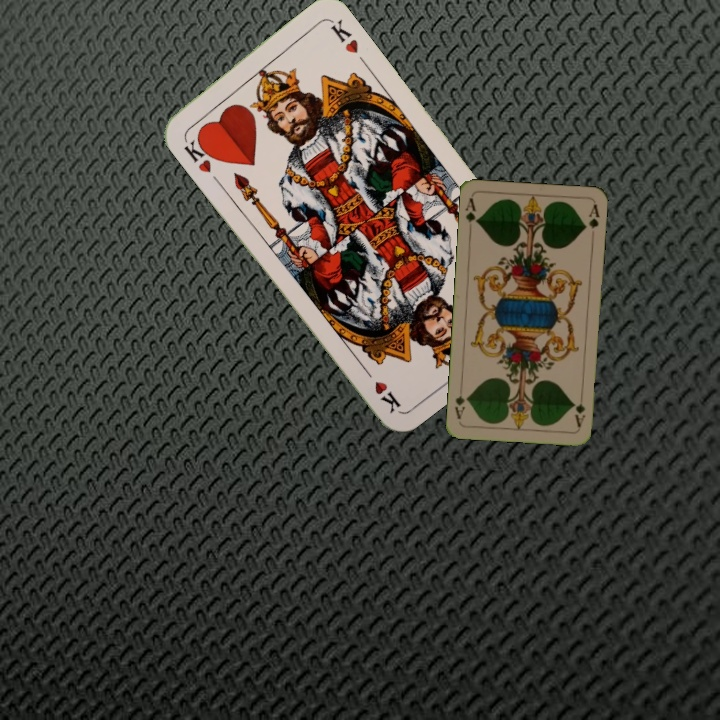GA: (461, 194, 481, 234), (570, 399, 588, 429)
HK: (179, 131, 220, 175)
